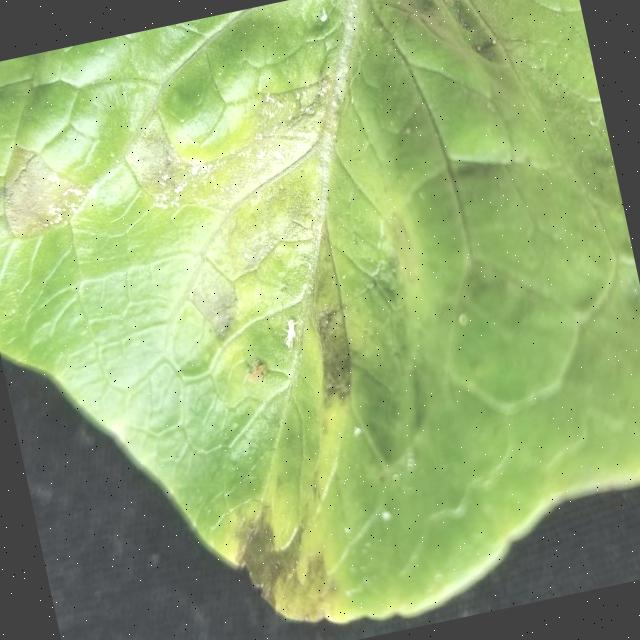Powdery_mildew_on_lettuce: (0, 51, 377, 321)
